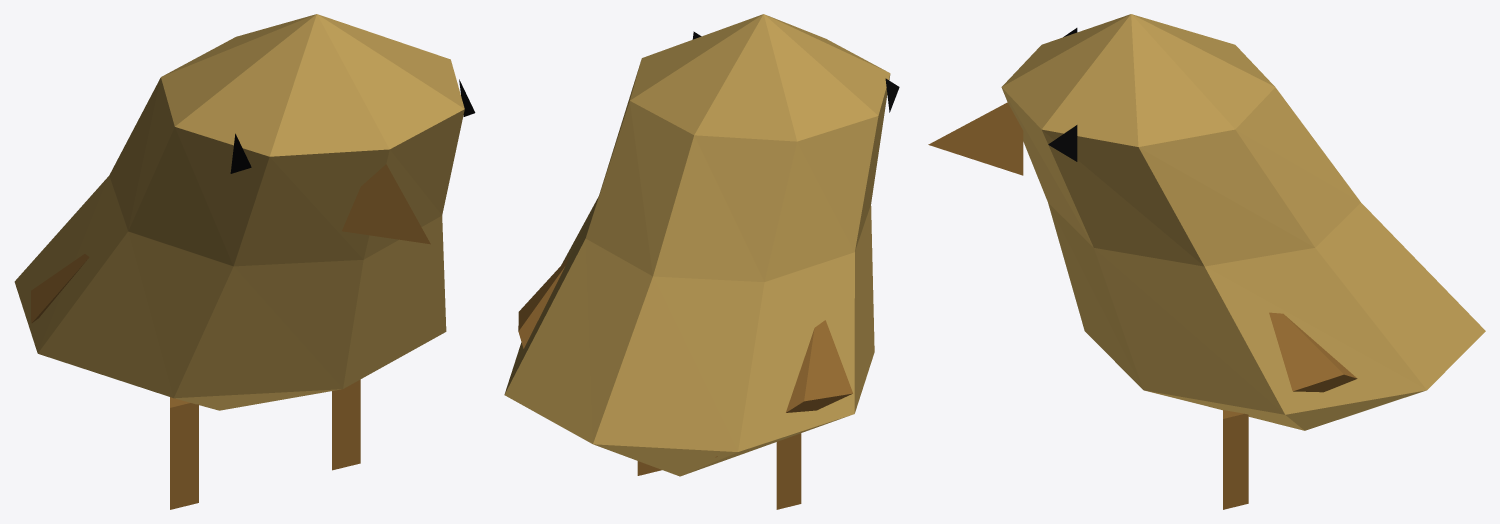
Rendered from chick.glb.
3 renders of one model, left to right at view 1: azimuth 30°, elevation 25°; view 2: azimuth 150°, elevation 25°; view 3: azimuth 270°, elevation 25°, orthographic. The views are drawn at different scales.
Parts seen in each view (by area): view 1: chick_body; view 2: chick_body; view 3: chick_body.
Part boxes in pixels (left/top/right/bottom): chick_body: left=14, top=14, right=475, bottom=509; chick_body: left=504, top=14, right=899, bottom=509; chick_body: left=928, top=14, right=1485, bottom=509.
Bounding box in the file's own units: 0.0547 × 0.0683 × 0.076.
